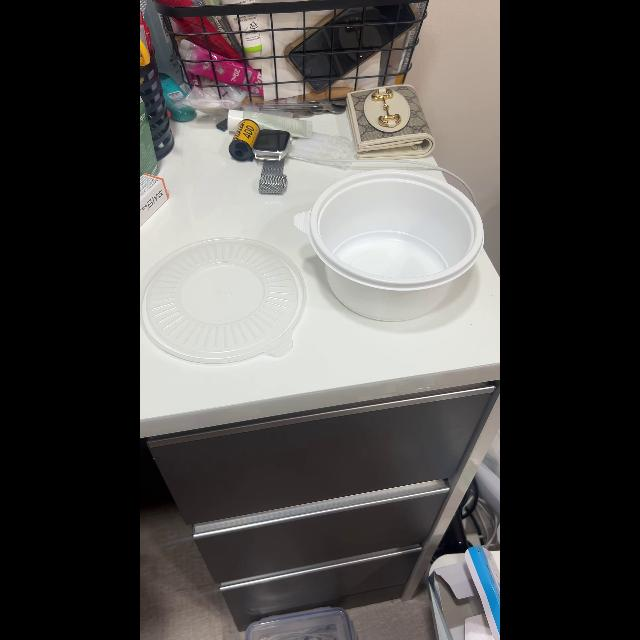clean: (317, 170, 483, 320), (144, 229, 310, 367)
